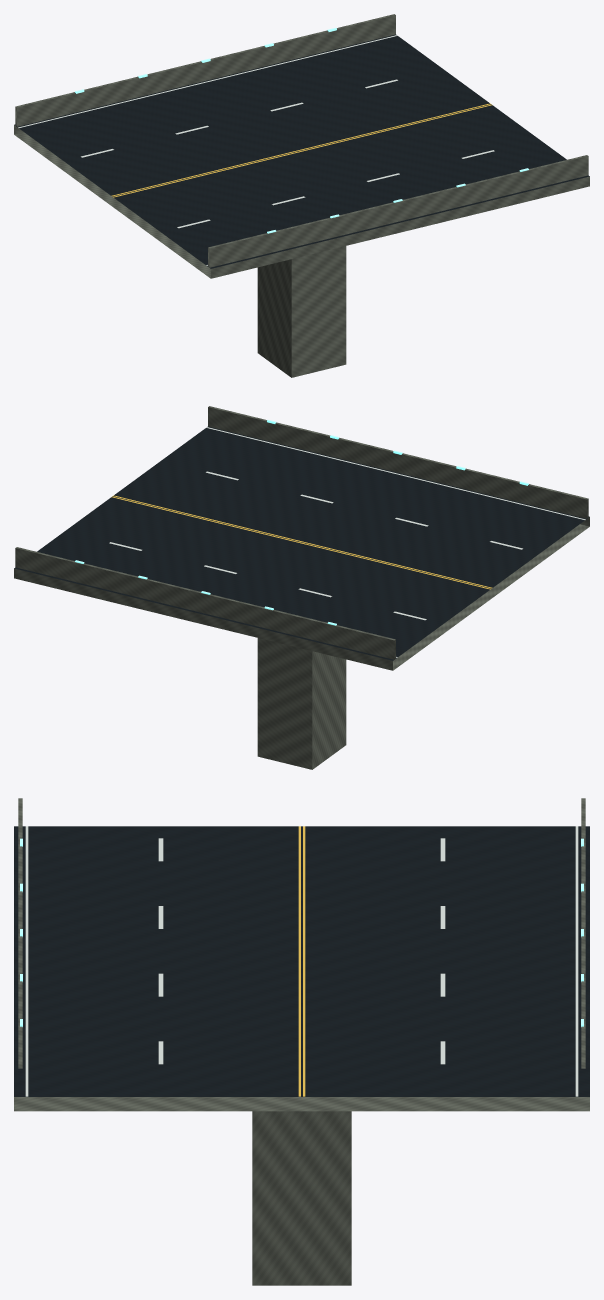
Rendered from elevated_viaduct_4lane_16m_LOD0.glb.
3 views of the same model, one above another, from view 1: azimuth 30°, elevation 25°; view 2: azimuth 150°, elevation 25°; view 3: azimuth 270°, elevation 25° (orthographic). The views are drawn at different scales.
Visible parts, largest first — view 1: elevated_viaduct_4lane_16m__deck, elevated_viaduct_4lane_16m__pier; view 2: elevated_viaduct_4lane_16m__deck, elevated_viaduct_4lane_16m__pier; view 3: elevated_viaduct_4lane_16m__deck, elevated_viaduct_4lane_16m__pier.
Part boxes in pixels (bbox=[...]): elevated_viaduct_4lane_16m__deck: bbox=[14, 14, 589, 278]; elevated_viaduct_4lane_16m__pier: bbox=[257, 246, 346, 377]; elevated_viaduct_4lane_16m__deck: bbox=[14, 406, 589, 670]; elevated_viaduct_4lane_16m__pier: bbox=[257, 638, 346, 769]; elevated_viaduct_4lane_16m__deck: bbox=[14, 798, 589, 1111]; elevated_viaduct_4lane_16m__pier: bbox=[252, 1111, 351, 1285].
Size of the model in its own units: 16 by 9.23 by 14.4.
Materials: 5 (2 with a texture image).
